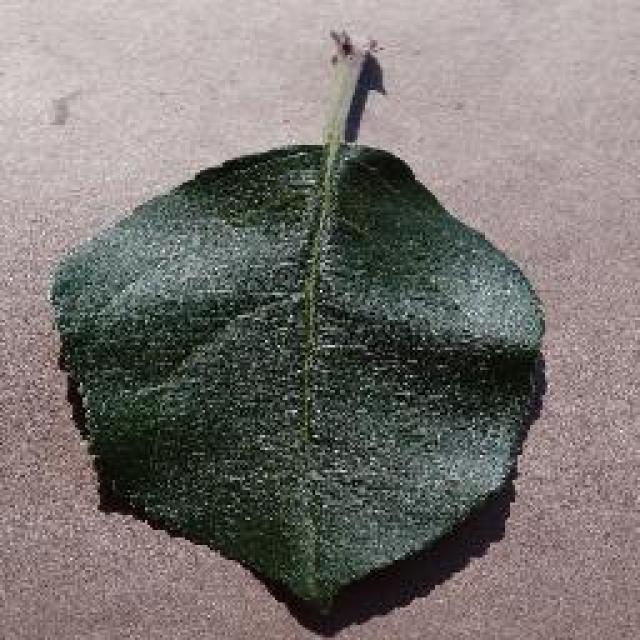apple healthy: (45, 27, 550, 615)
